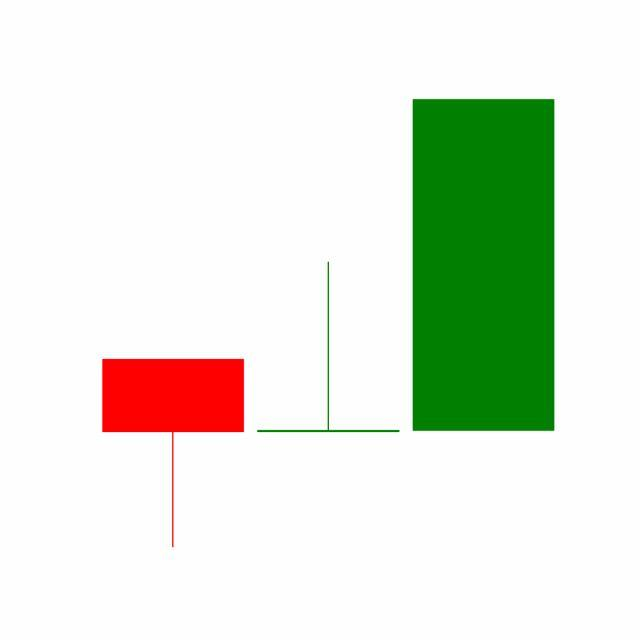Marubozu: (406, 97, 562, 436)
